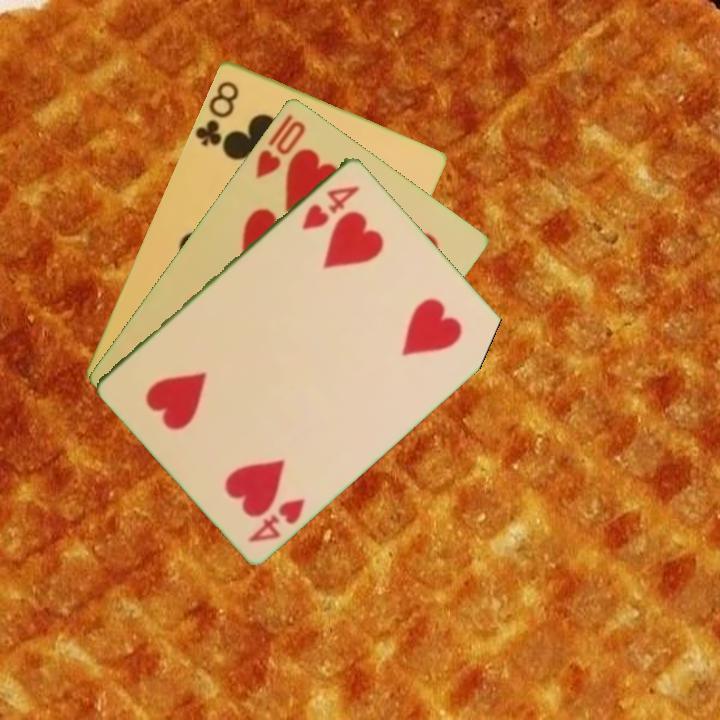10h: (252, 109, 309, 181)
4h: (298, 181, 363, 232), (244, 494, 308, 545)
8c: (191, 77, 242, 152)
